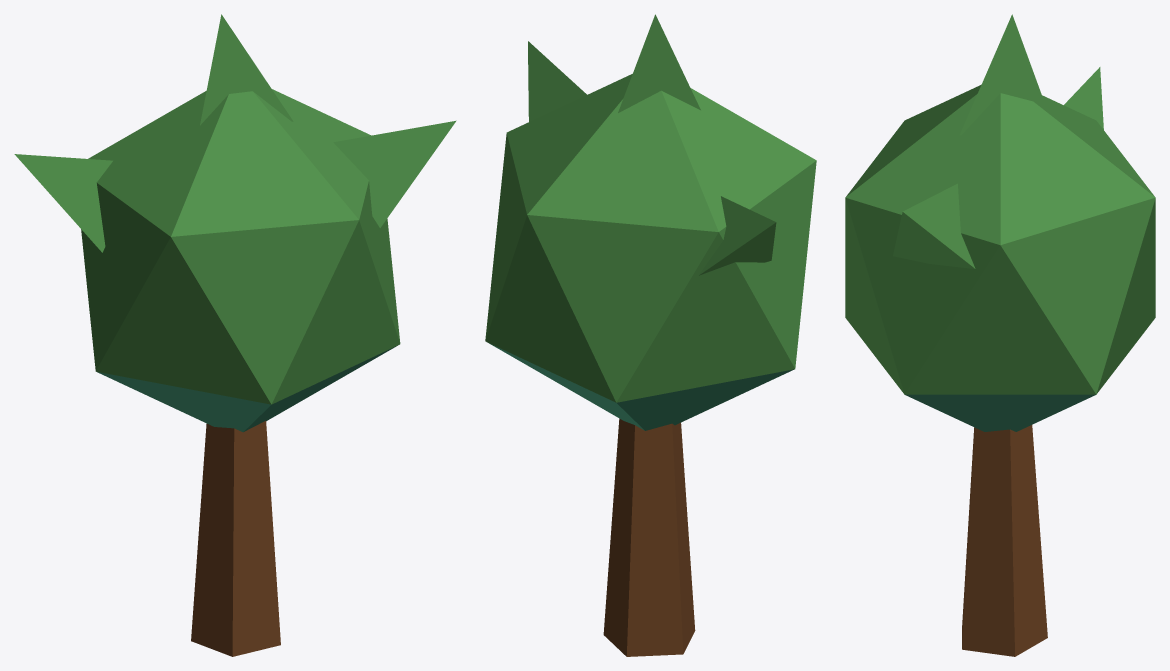
Rendered from TreeYoung.fbx.
The picture shows the model from 3 angles, left to right: view 1: azimuth 30°, elevation 25°; view 2: azimuth 150°, elevation 25°; view 3: azimuth 270°, elevation 25°; orthographic projection. The views are drawn at different scales.
Parts seen in each view (by area): view 1: TreeYoung; view 2: TreeYoung; view 3: TreeYoung.
Boxes of the visible parts, left/top/right/bottom form: TreeYoung: left=14, top=14, right=456, bottom=656; TreeYoung: left=485, top=14, right=816, bottom=656; TreeYoung: left=845, top=14, right=1155, bottom=656.
Size of the model in its own units: 2.17 by 3.74 by 1.7.
Materials: 1 (1 with a texture image).
